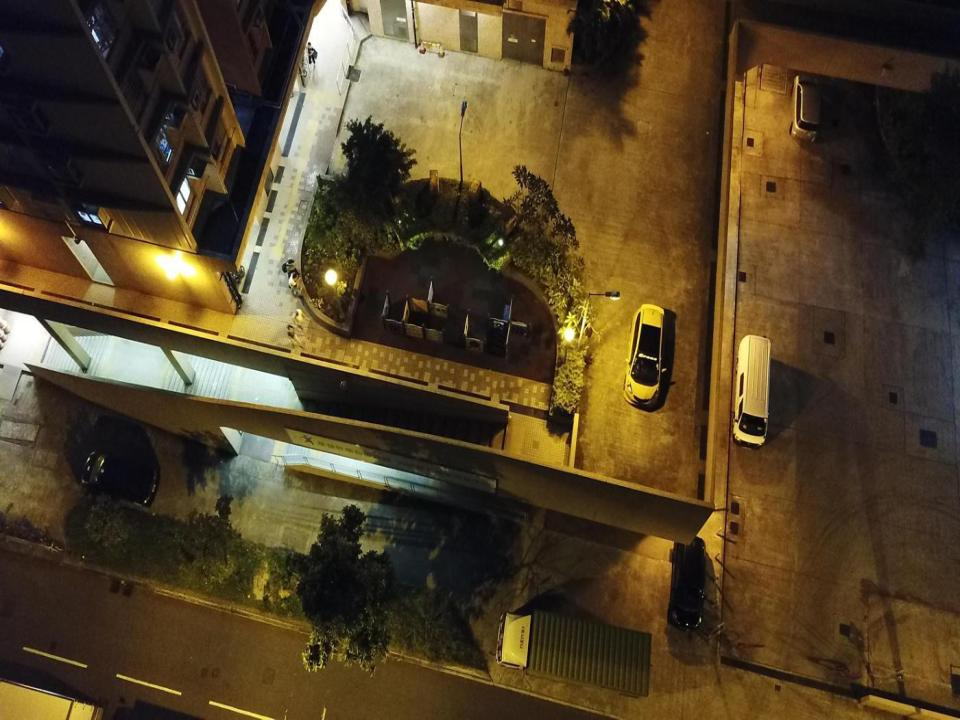car: (622, 304, 665, 410), (80, 451, 160, 507), (665, 533, 708, 633), (787, 71, 825, 143)
truck: (494, 609, 653, 701)
van: (732, 334, 772, 449)
